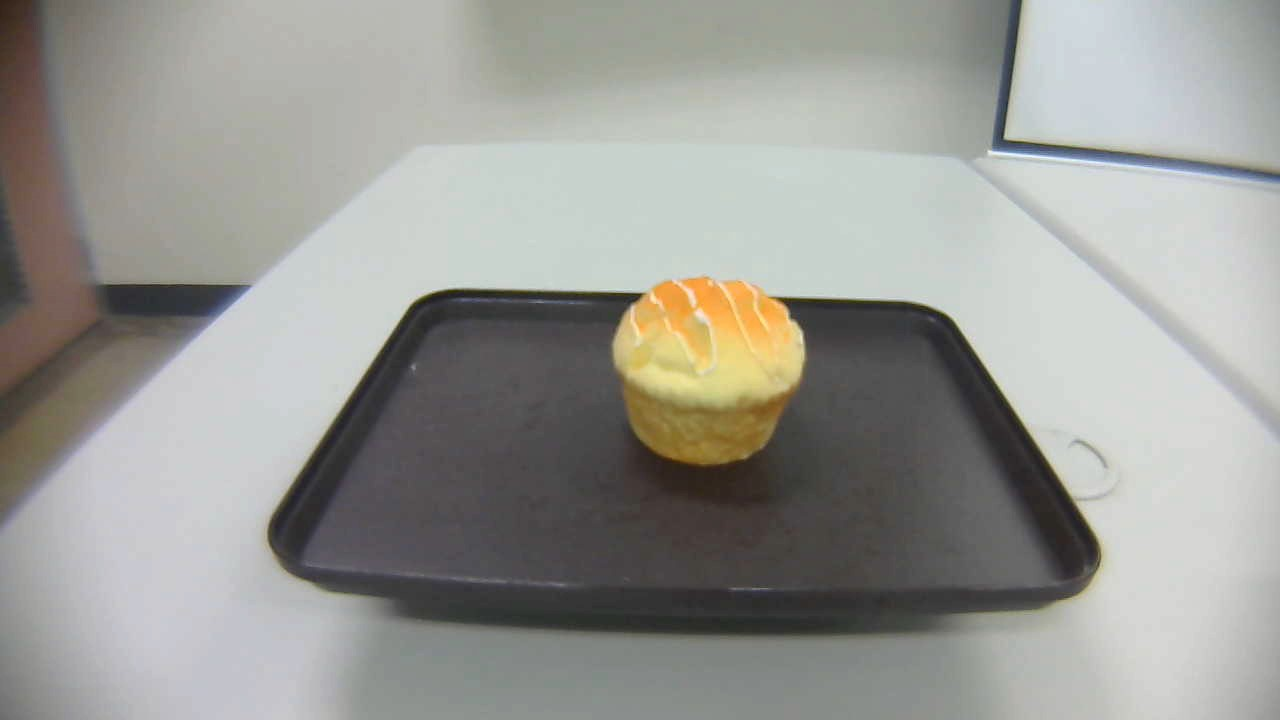cupcake: (613, 274, 809, 467)
